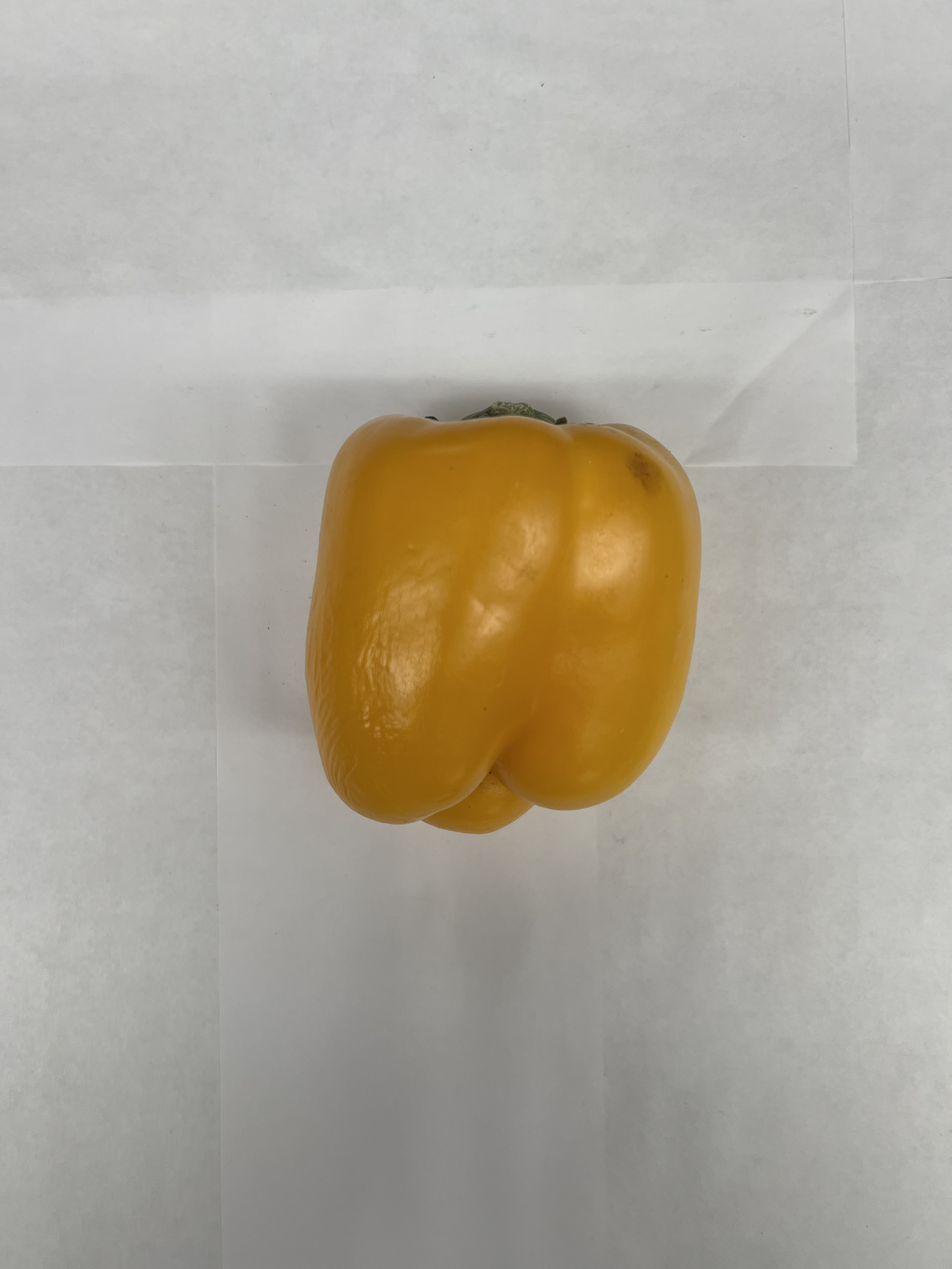wrinkling: (312, 588, 421, 814)
